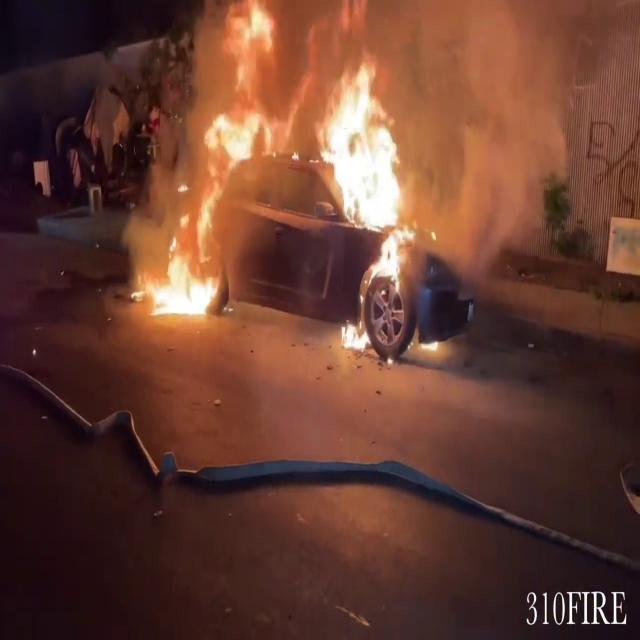Fire: (136, 1, 424, 338)
Smoke: (398, 0, 582, 264)
